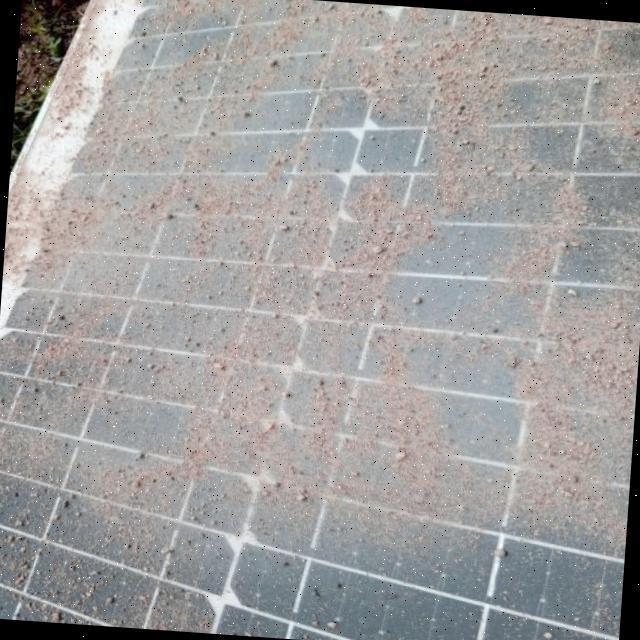Surface Contaminant: (45, 4, 640, 640)
